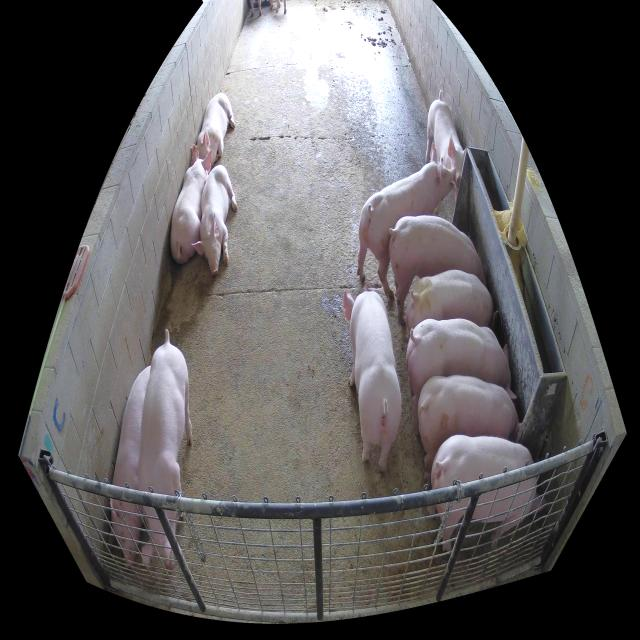pig: (358, 145, 455, 300), (430, 436, 551, 552), (137, 330, 193, 571), (406, 320, 517, 435), (417, 376, 522, 487), (391, 214, 488, 329), (344, 284, 401, 477), (110, 366, 151, 570), (405, 271, 498, 345), (192, 165, 238, 275), (170, 145, 212, 264), (425, 89, 466, 208), (191, 94, 235, 171)
